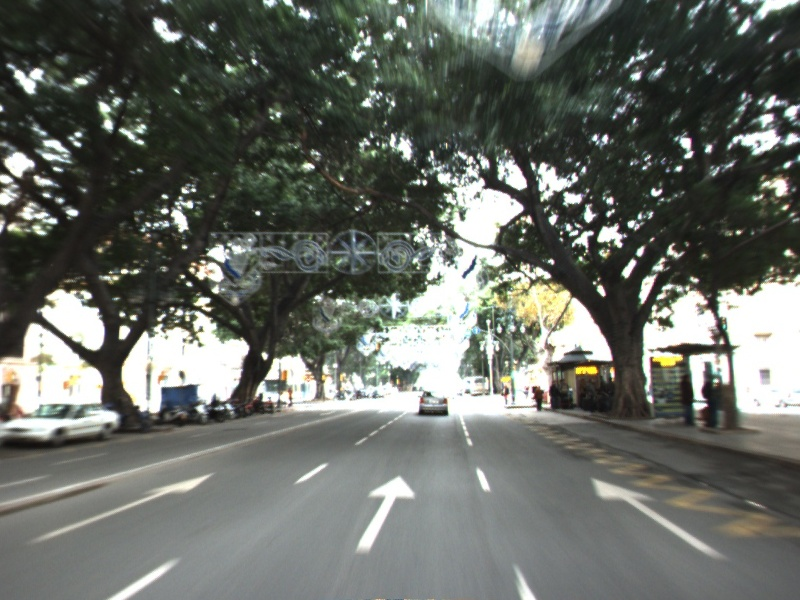STRAIGHT: (21, 470, 220, 547), (588, 475, 732, 562), (352, 472, 418, 557)
